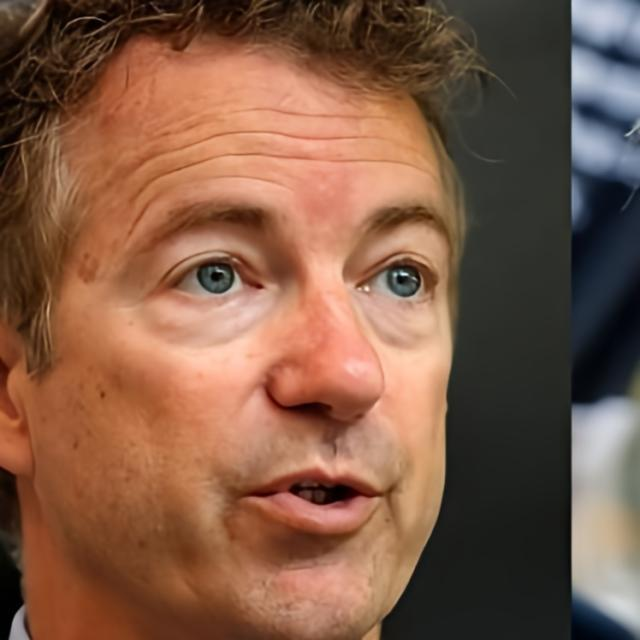surprise: (35, 24, 456, 640)
